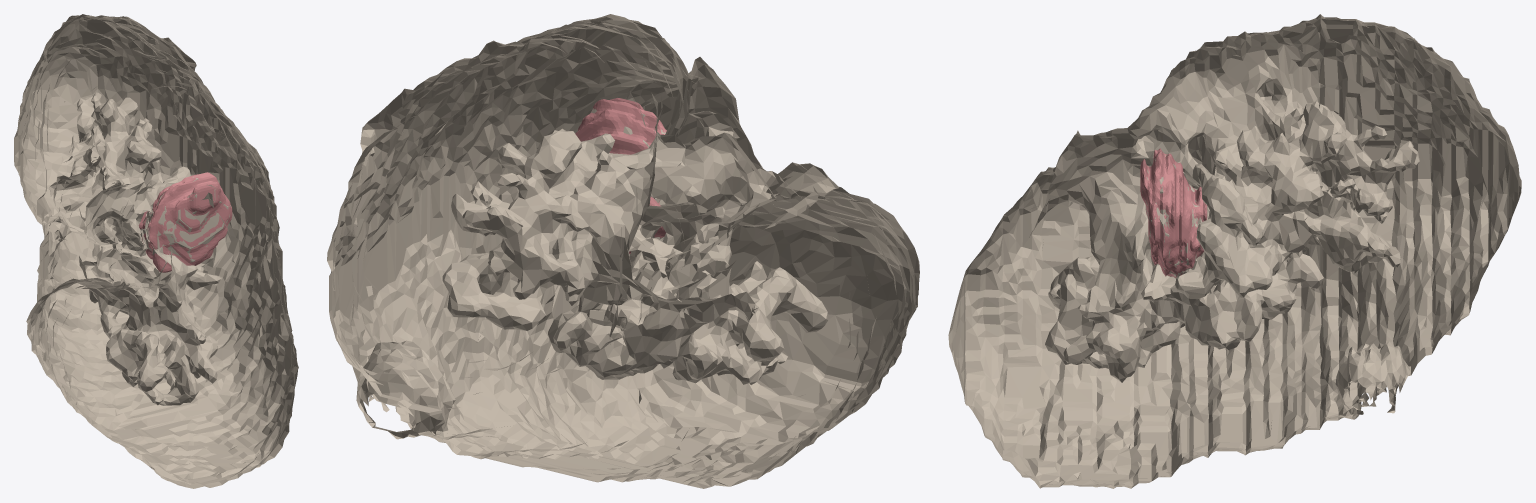
Rendered from reference-b.glb.
The picture shows the model from 3 angles, left to right: view 1: azimuth 30°, elevation 25°; view 2: azimuth 150°, elevation 25°; view 3: azimuth 270°, elevation 25°; orthographic projection. The views are drawn at different scales.
Visible parts, largest first — view 1: parenchyma, tumour; view 2: parenchyma, tumour; view 3: parenchyma, tumour.
Boxes of the visible parts, x1=… form: parenchyma: x1=14, y1=14, x2=298, y2=488; tumour: x1=138, y1=172, x2=232, y2=272; parenchyma: x1=327, y1=14, x2=919, y2=488; tumour: x1=575, y1=98, x2=666, y2=253; parenchyma: x1=948, y1=14, x2=1521, y2=488; tumour: x1=1140, y1=148, x2=1207, y2=277.
Size of the model in its own units: 72.75 by 92.92 by 108.
